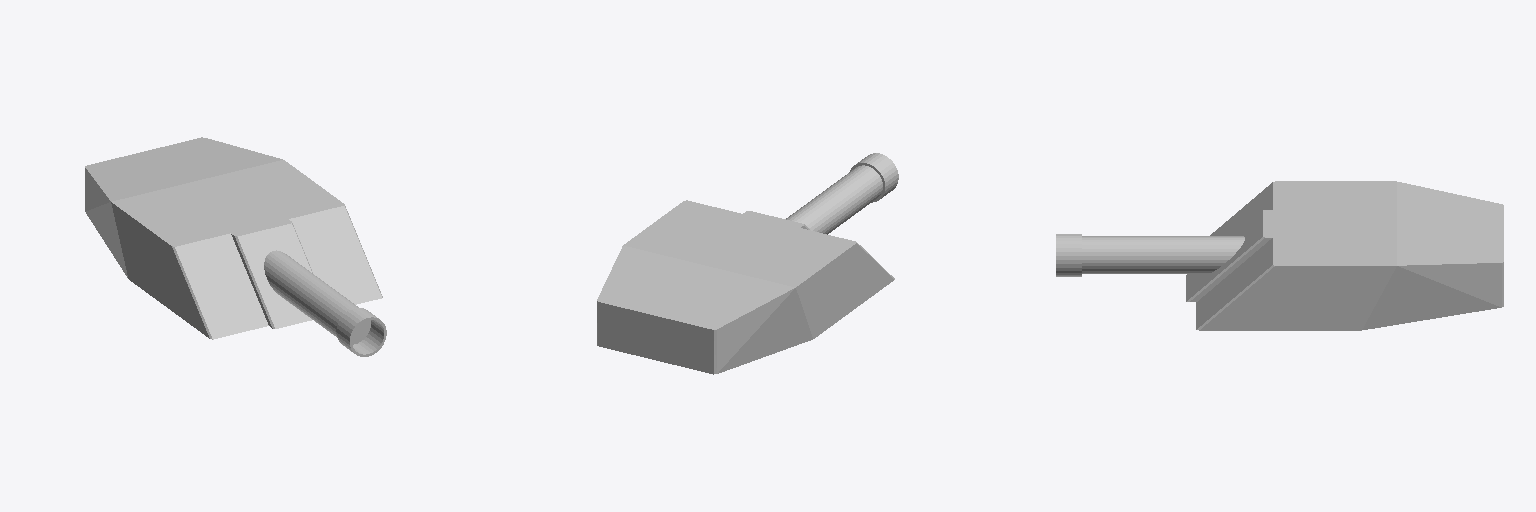
The model's file is machine_gun_turret.obj.
3 renders of one model, left to right at view 1: azimuth 30°, elevation 25°; view 2: azimuth 150°, elevation 25°; view 3: azimuth 270°, elevation 25°, orthographic.
Size of the model in its own units: 5.58 by 2 by 12.56.